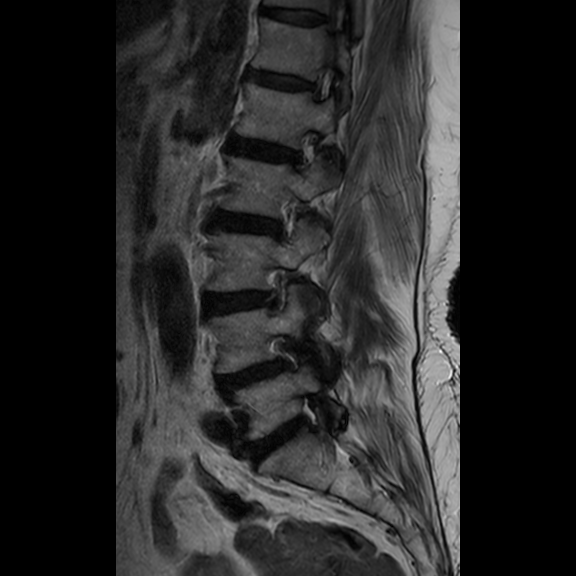LFS0: (268, 191, 307, 253), (283, 122, 325, 178)
LFS2: (256, 257, 295, 319)
LFS3: (257, 325, 307, 388)
